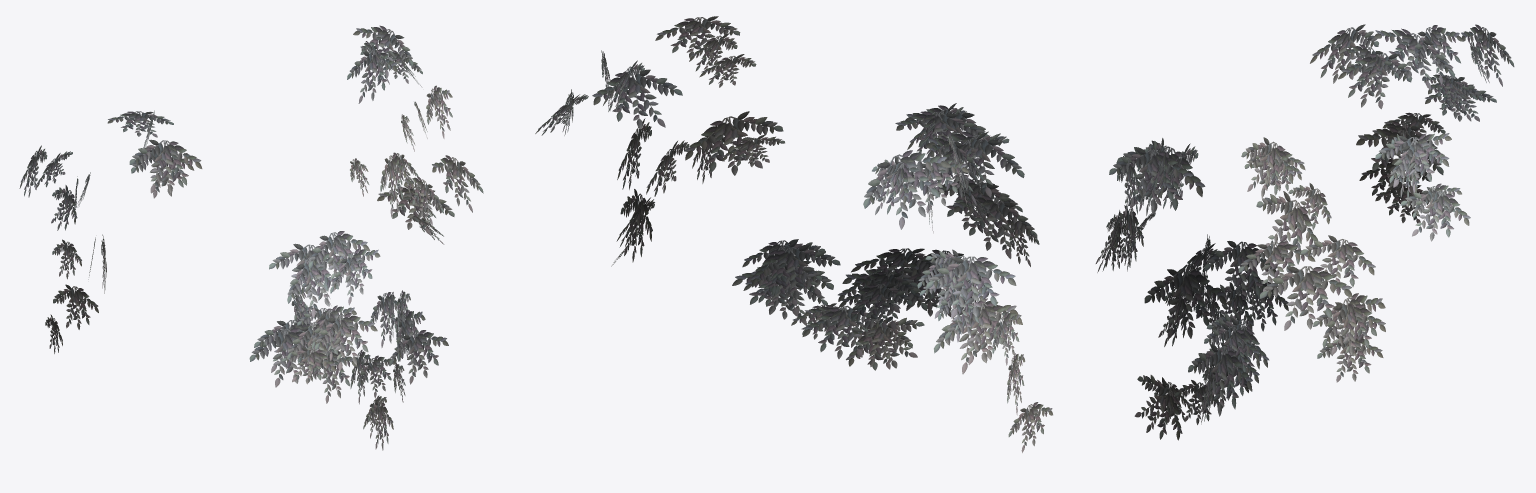
File: willow_l1.gltf
The picture shows the model from 3 angles, left to right: view 1: azimuth 30°, elevation 25°; view 2: azimuth 150°, elevation 25°; view 3: azimuth 270°, elevation 25°; orthographic projection. The views are drawn at different scales.
Visible parts, largest first — view 1: willow_l1; view 2: willow_l1; view 3: willow_l1.
Part boxes in pixels (left/top/right/bottom): willow_l1: left=19, top=25, right=483, bottom=450; willow_l1: left=535, top=16, right=1052, bottom=452; willow_l1: left=1095, top=24, right=1514, bottom=440.
Size of the model in its own units: 9.17 by 7.61 by 7.32.
Materials: 1 (1 with a texture image).
